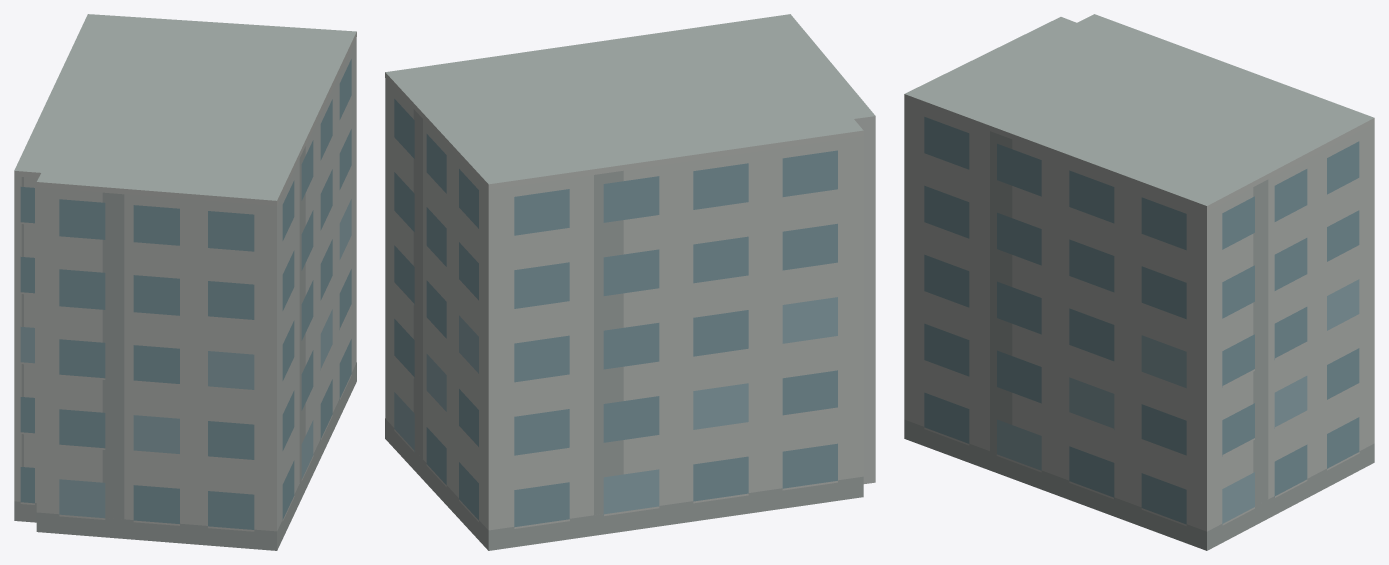
Rendered from survey-upis-32884721.glb.
3 renders of one model, left to right at view 1: azimuth 30°, elevation 25°; view 2: azimuth 150°, elevation 25°; view 3: azimuth 270°, elevation 25°, orthographic. The views are drawn at different scales.
Visible parts, largest first — view 1: survey-upis-32884721.tmp; view 2: survey-upis-32884721.tmp; view 3: survey-upis-32884721.tmp.
Part boxes in pixels (left/top/right/bottom): survey-upis-32884721.tmp: left=14, top=14, right=356, bottom=550; survey-upis-32884721.tmp: left=385, top=14, right=875, bottom=550; survey-upis-32884721.tmp: left=904, top=14, right=1374, bottom=550.
Bounding box in the file's own units: 18.53 × 15.5 × 19.17.
